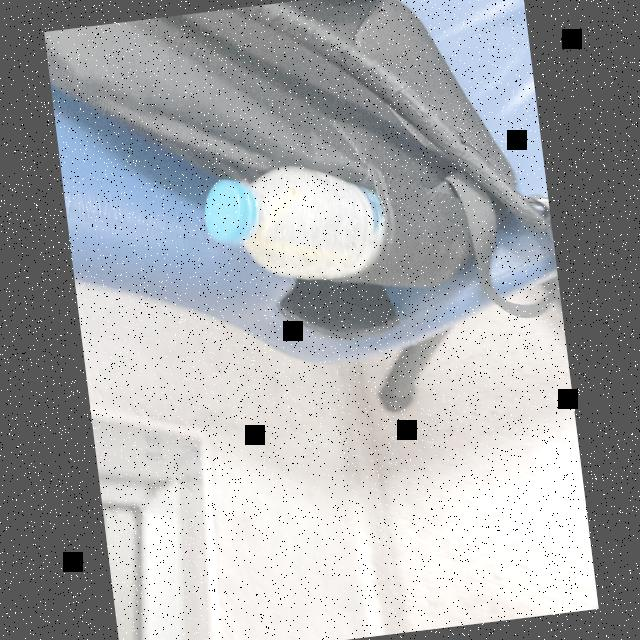plastic_bottle: (194, 154, 394, 297)
plastic_bottle_cap: (199, 177, 264, 250)
straw: (239, 185, 357, 279)
